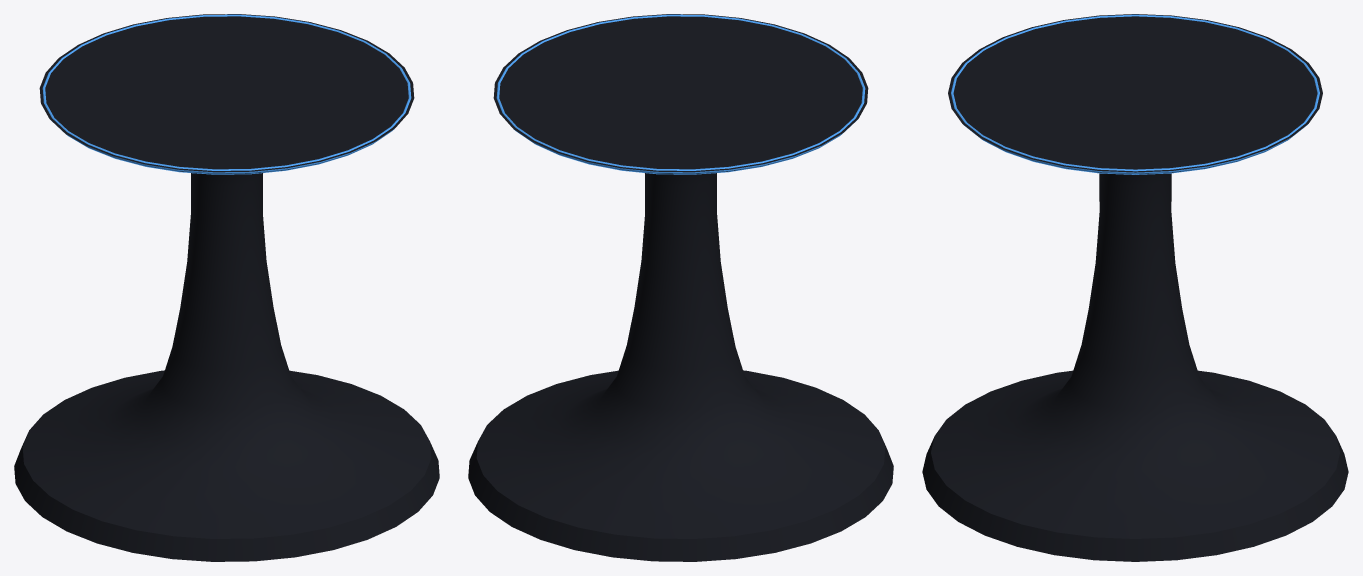
The model's file is terraviz-stem-medium.dae.
3 renders of one model, left to right at view 1: azimuth 30°, elevation 25°; view 2: azimuth 150°, elevation 25°; view 3: azimuth 270°, elevation 25°, orthographic.
Visible parts, largest first — view 1: terraviz-stem; view 2: terraviz-stem; view 3: terraviz-stem.
Part boxes in pixels (x1=…): terraviz-stem: x1=14, y1=14, x2=439, y2=561; terraviz-stem: x1=468, y1=14, x2=893, y2=561; terraviz-stem: x1=922, y1=14, x2=1348, y2=561.
Size of the model in its own units: 1 by 1 by 0.983.
